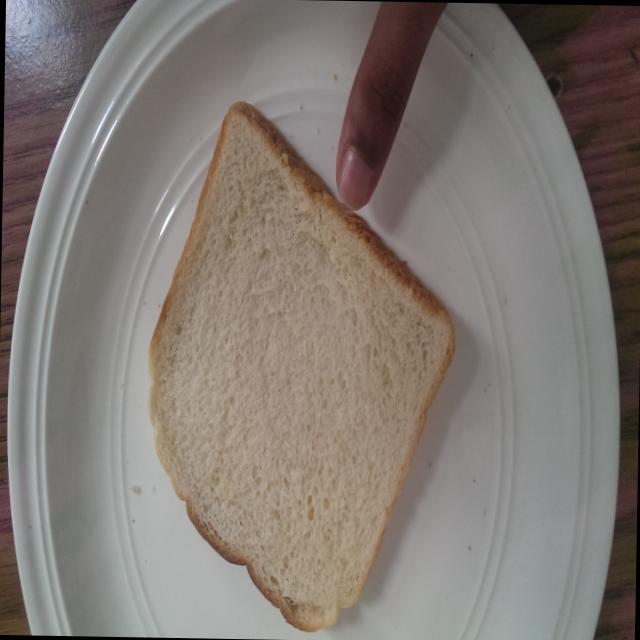Bread: (138, 90, 462, 638)
Finger: (328, 20, 416, 212)
